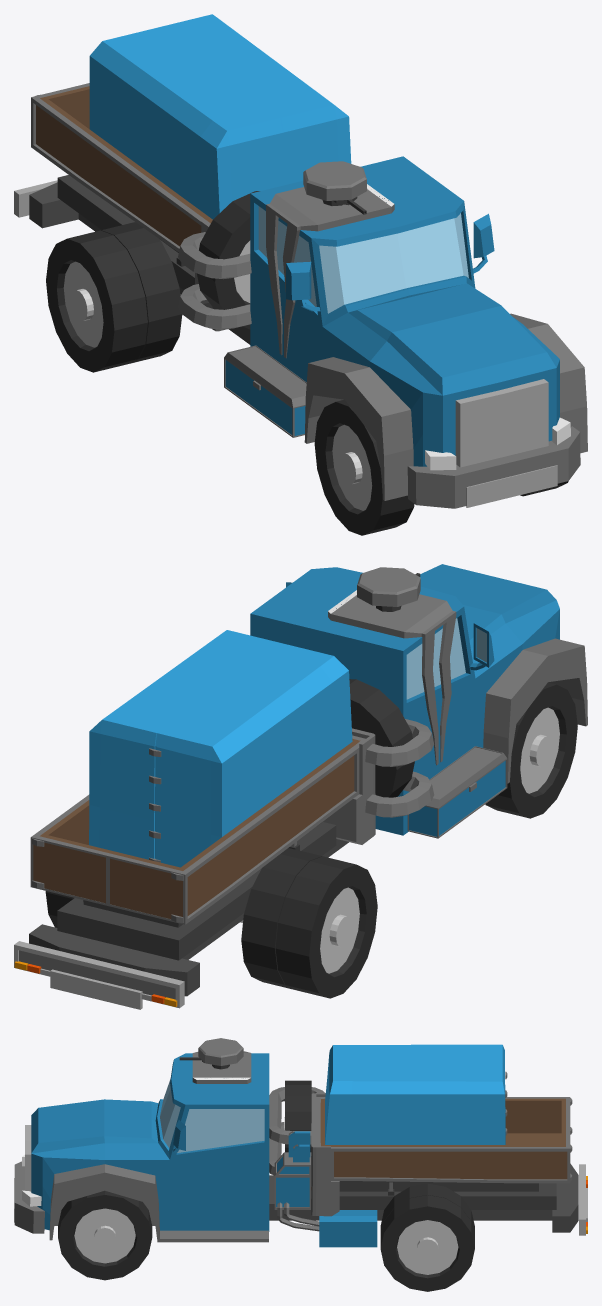
3 views of the same model, one above another, from view 1: azimuth 30°, elevation 25°; view 2: azimuth 150°, elevation 25°; view 3: azimuth 270°, elevation 25° (orthographic). The views are drawn at different scales.
Parts seen in each view (by area): view 1: front, back, wheel.br, wheel.fr, gun; view 2: back, front, wheel.br, wheel.fr, gun; view 3: back, front, wheel.bl, wheel.fl, gun.
Part boxes in pixels (x1,y1,x2,y2): front: (224,156,587,508); back: (14,14,351,344); wheel.br: (46,222,182,372); wheel.fr: (314,399,414,535); gun: (303,161,366,214); back: (14,630,434,1009); front: (250,564,587,838); wheel.br: (241,848,377,998); wheel.fr: (485,682,577,818); gun: (357,567,420,611); back: (269,1044,587,1247); front: (14,1051,269,1242); wheel.bl: (380,1183,474,1291); wheel.fl: (58,1190,152,1280); gun: (179,1038,243,1069).
Bounding box in the file's own units: 4.46 × 4.48 × 12.16.
1 material, 1 textured.
